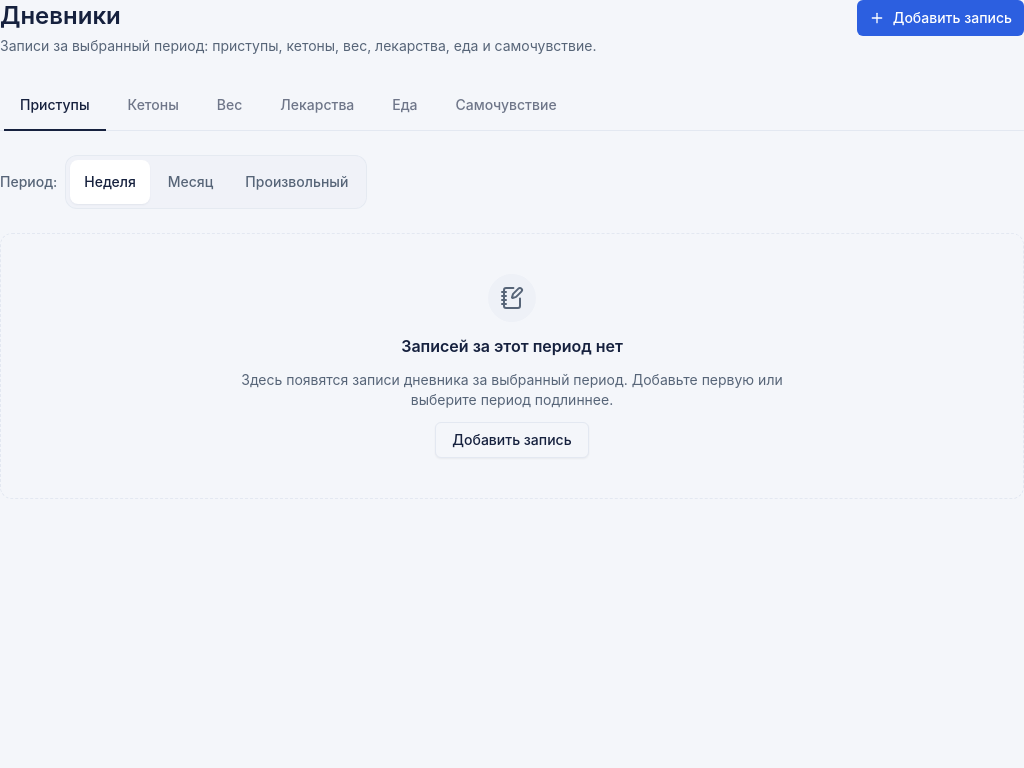
Test: DiaryPage › без справочника типов приступа объясняет, почему форму не открыть
Click the button "Добавить запись" in the row of "Дневники" at [940, 18], box top-left (857, 0), bottom-right (1023, 36)
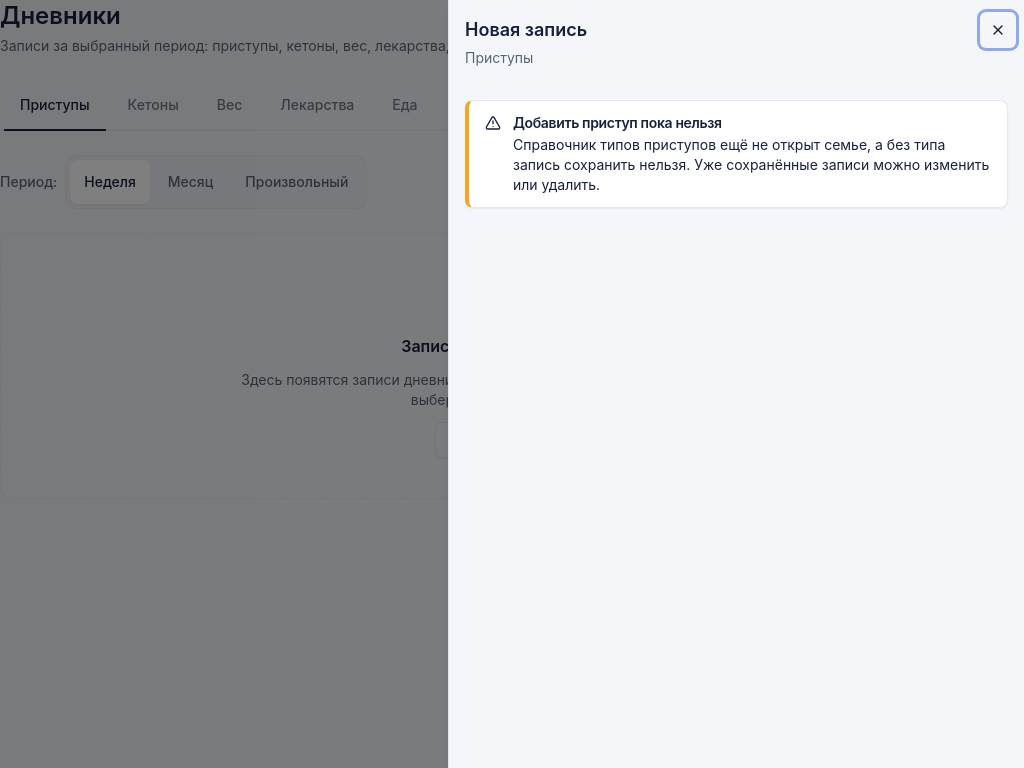
Expected: the text "Добавить приступ пока нельзя" is shown, top-left (513, 114), bottom-right (722, 131)
